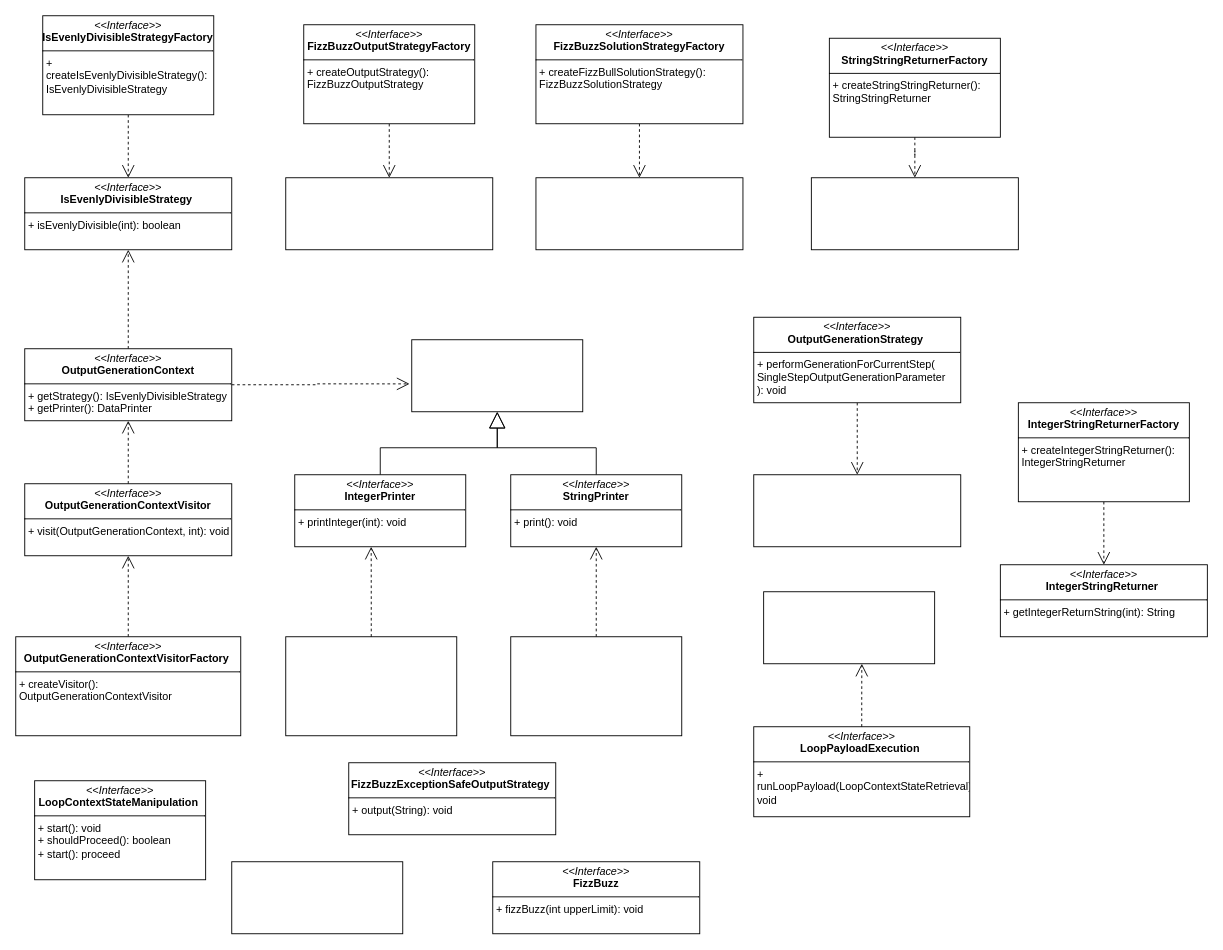
The diagram is 1223 pixels wide and 950 high, and some of its shapes have lost their labels. The shapes that lost their labels are listed below. From the top down, each one's centre as x and y in pixels, then its label:
At point 389,213: "<<Interface>> FizzBuzzOutputStrategy + output(String): void | IOException".
At point 639,213: "<<Interface>> FizzBuzzSolutionStrategy + runSolution(int upperLimit): void".
At point 914,213: "<<Interface>> StringStringReturner + getReturnString(): String".
At point 497,375: "<<Interface>> DataPrinter + print(): void + printValue(Object): void".
At point 857,510: "<<Interface>> SingleStepOutputGenerationParameter + retrieveIntegerValue(): int".
At point 849,627: "<<Interface>> LoopContextStateRetrieval + getControlParameter(): int".
At point 371,686: "<<Interface>> IntegerPrinterFactory + createPrinter(): IntegerPrinter".
At point 596,686: "<<Interface>> StringPrinterFactory + createStringPrinter(): StringPrinter".
At point 317,897: "<<Interface>> FizzBuzzUpperLimitParameter + obtainUpperLimitValue(): int".
